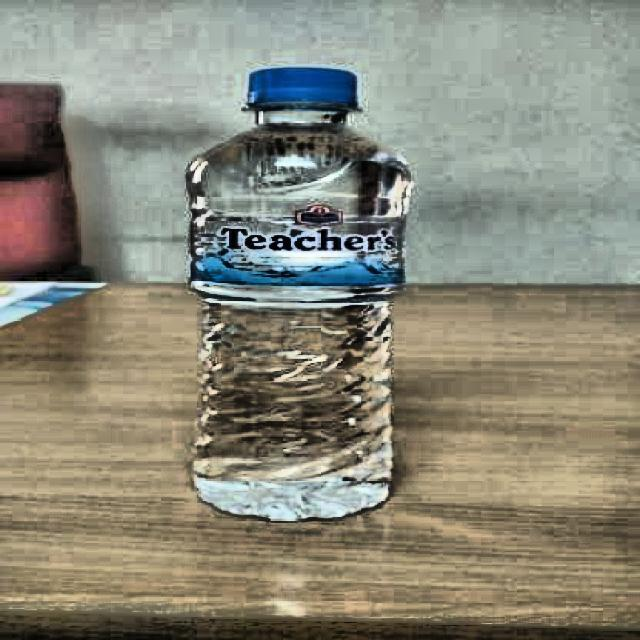plastic bottle: (188, 66, 412, 522)
